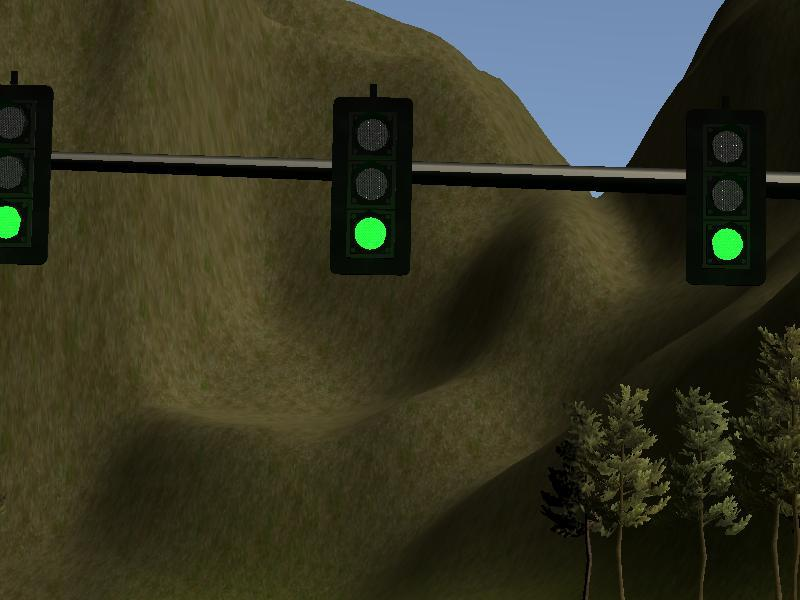Green: (335, 98, 412, 271), (693, 114, 763, 281), (1, 86, 48, 262)
